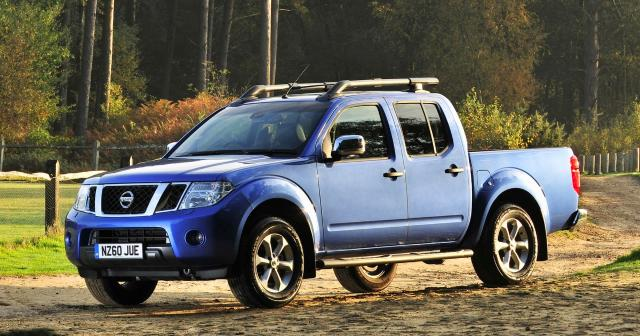pickup-truck: (62, 81, 586, 308)
